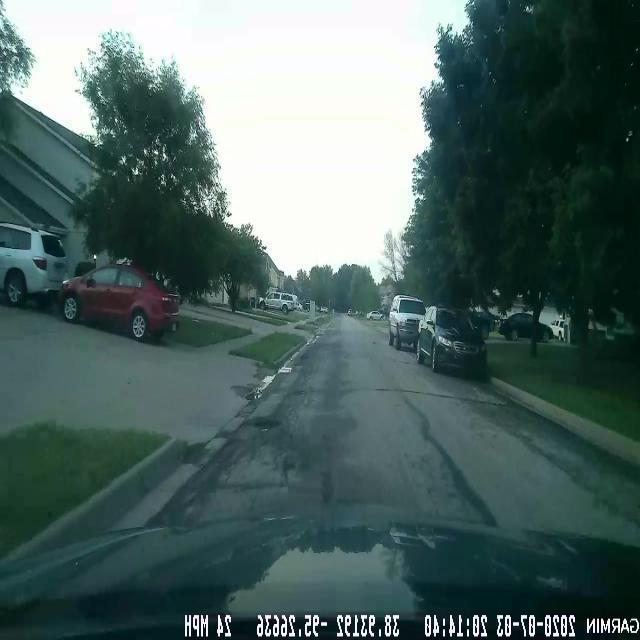pothole: (171, 419, 216, 490), (246, 407, 289, 441)
